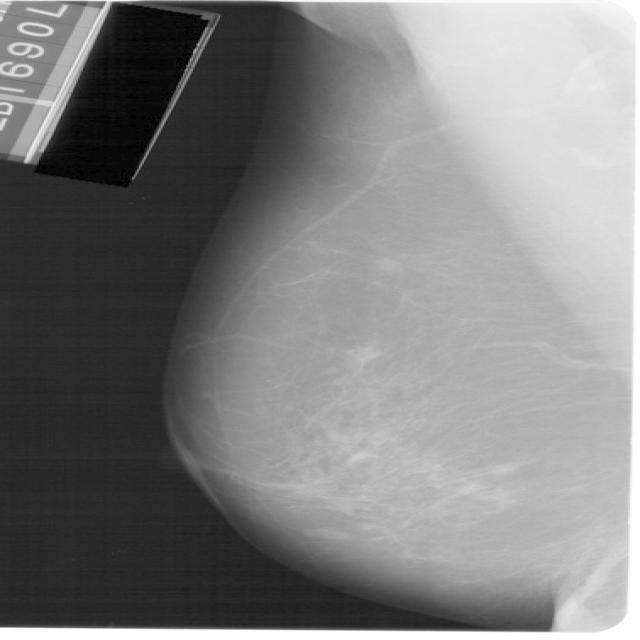tumour: (346, 342, 380, 364)
